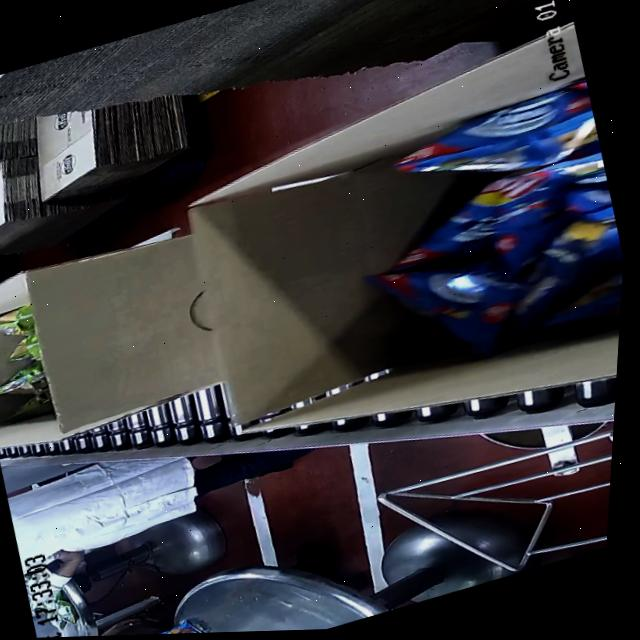PAPRIKA: (357, 69, 635, 392)
